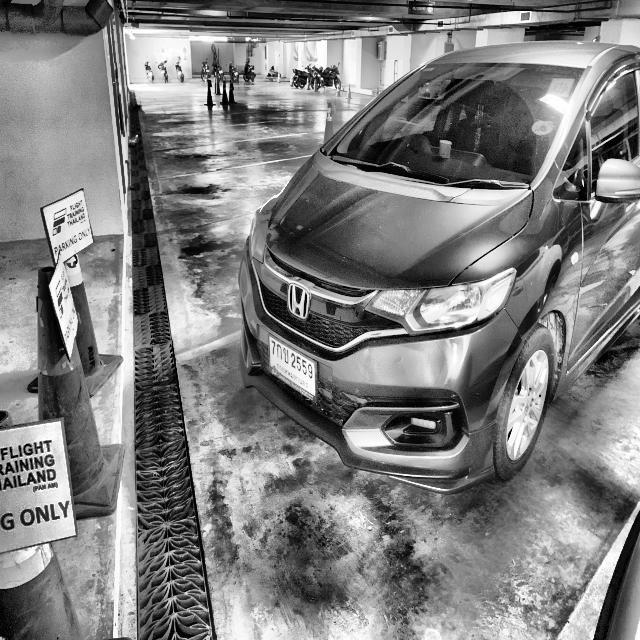license-plate: (267, 329, 318, 399)
